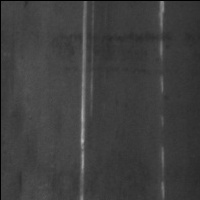scratches: (77, 1, 93, 200), (158, 1, 170, 153), (156, 141, 170, 200)
